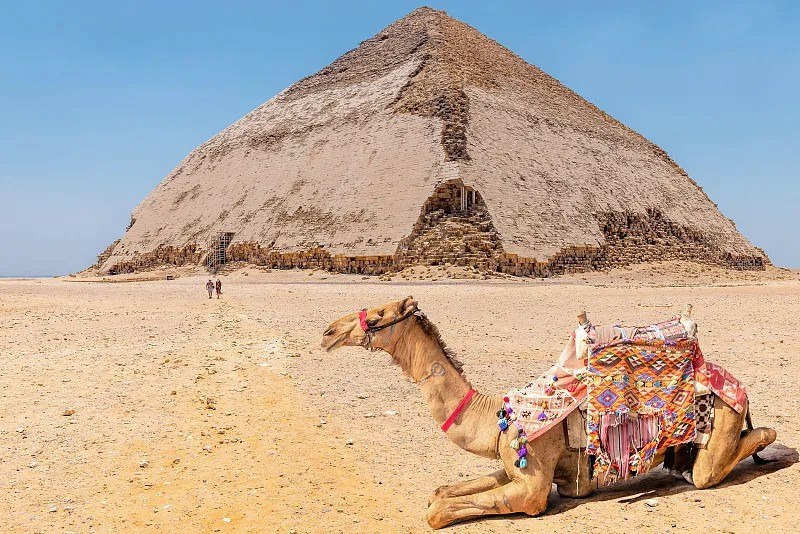Pyramid: (73, 5, 774, 271)
